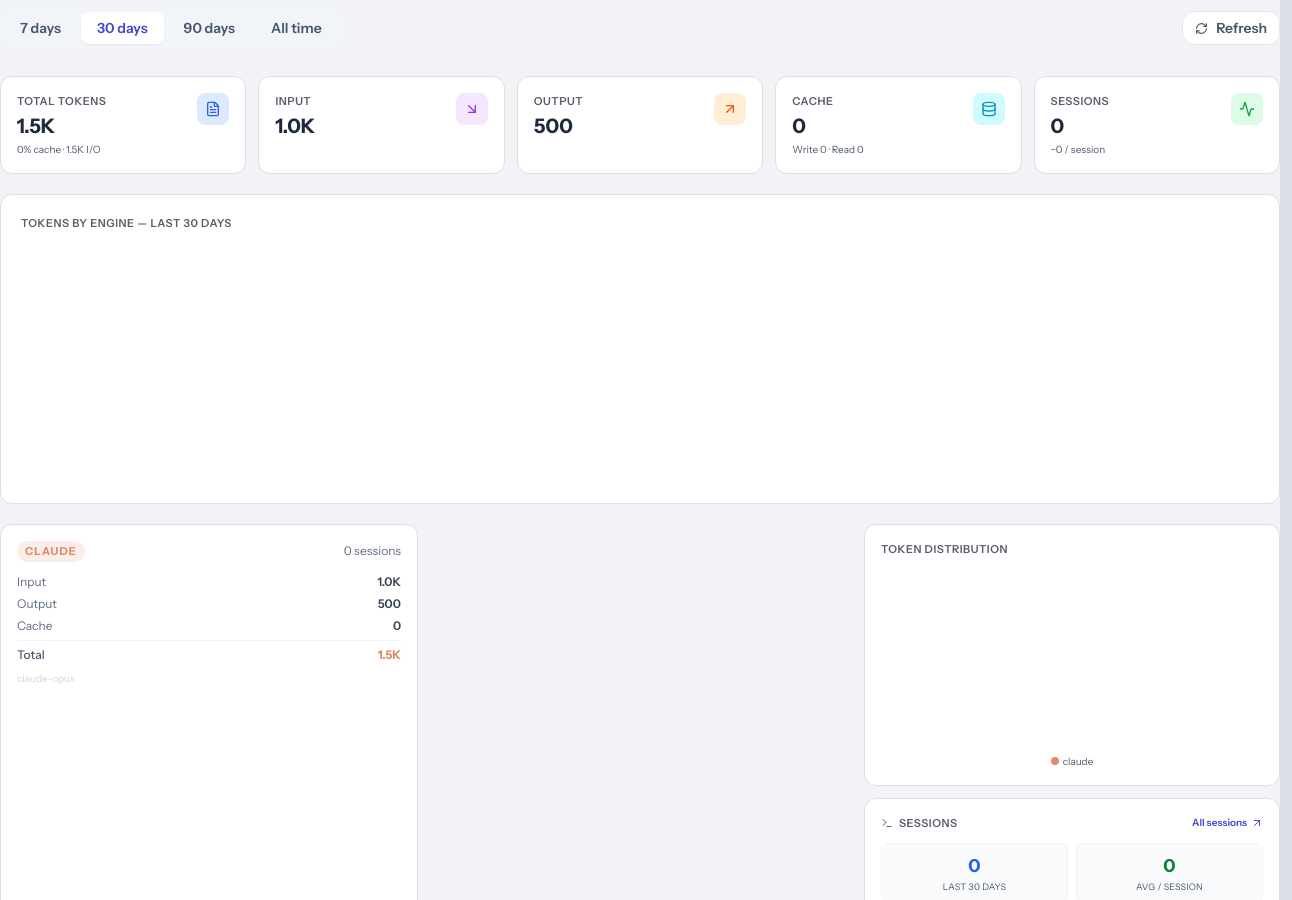
Test: Analytics time range scoping › widening the range pulls in older rows
Check: the text "Total Tokens" is shown, box [17,93,106,110]
Click the button "90 days": (209, 28) [168,12,251,44]
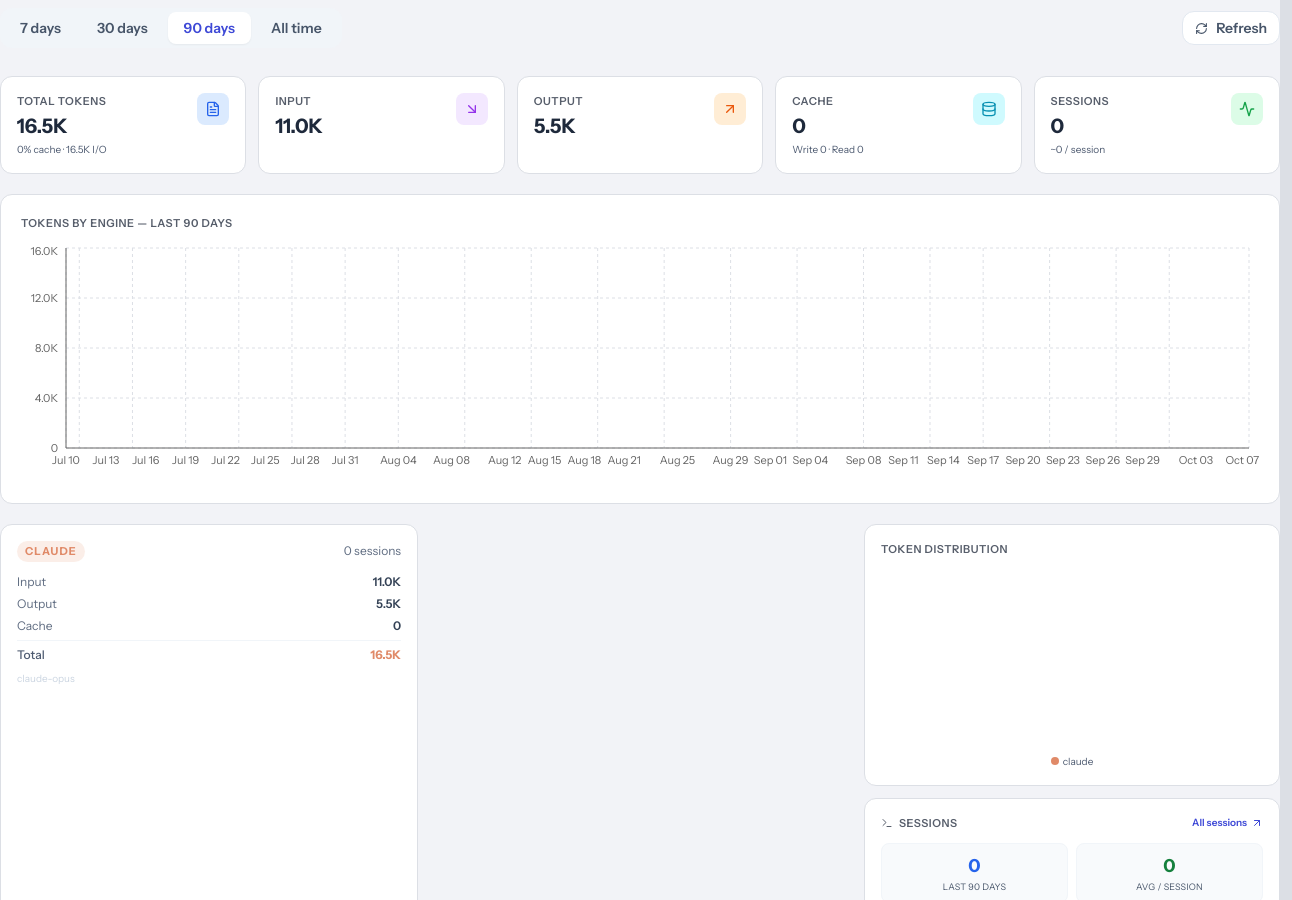
Check: the text "16.5K" below "Total Tokens" is shown, box [17,114,68,138]
Click the button "7 days": (40, 28) [4,12,77,44]
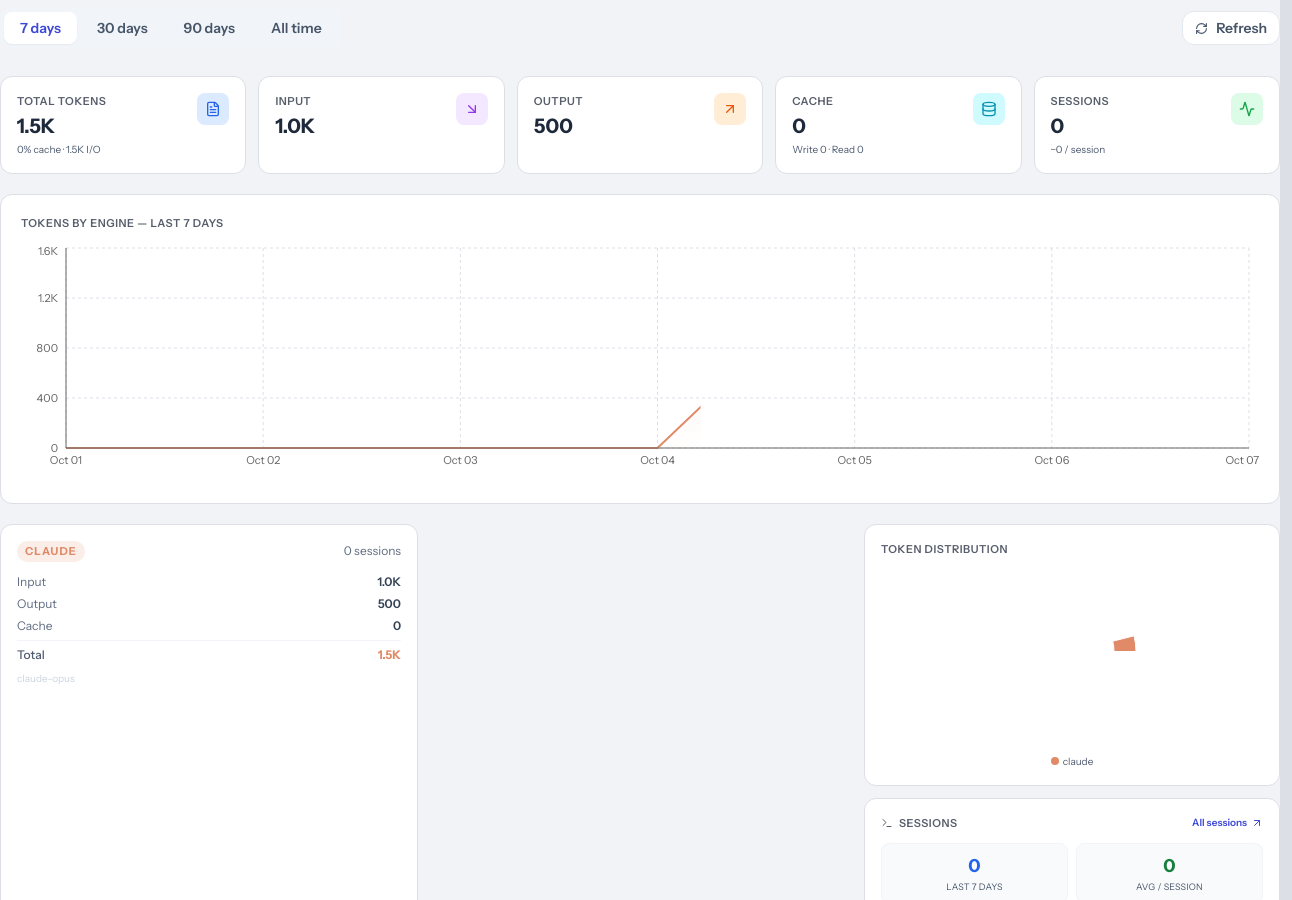
Check: the text "1.5K" below "Total Tokens" is shown, box [17,114,55,138]
